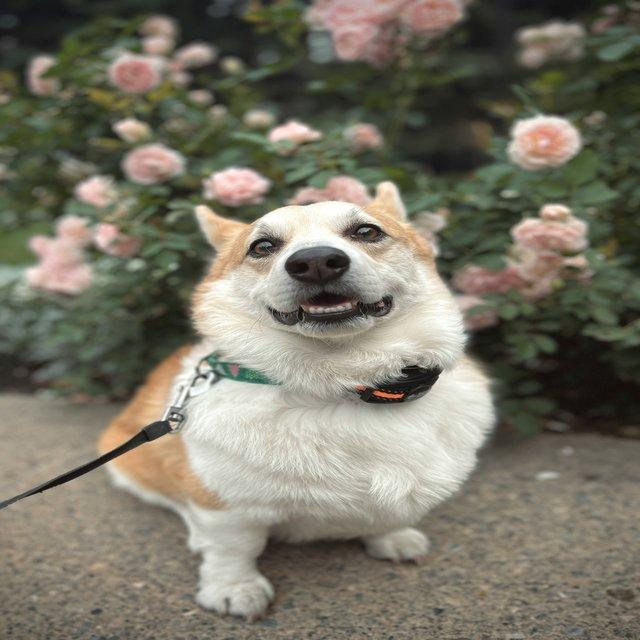corgi: (95, 178, 496, 623)
